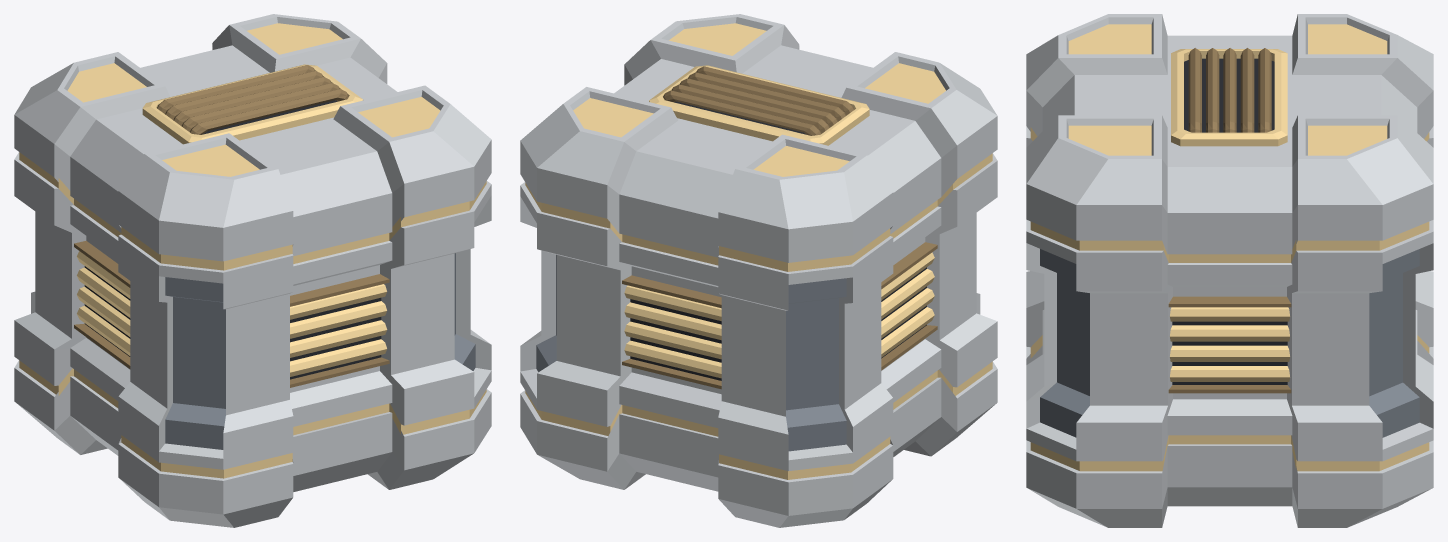
File: crate.glb
3 renders of one model, left to right at view 1: azimuth 30°, elevation 25°; view 2: azimuth 150°, elevation 25°; view 3: azimuth 270°, elevation 25°, orthographic. The views are drawn at different scales.
Visible parts, largest first — view 1: crate; view 2: crate; view 3: crate.
Boxes of the visible parts, x1,y1,x2,y2 form: crate: [14, 14, 491, 527]; crate: [520, 14, 997, 527]; crate: [1026, 14, 1433, 527].
Size of the model in its own units: 0.7971 by 0.8055 by 0.7971.
